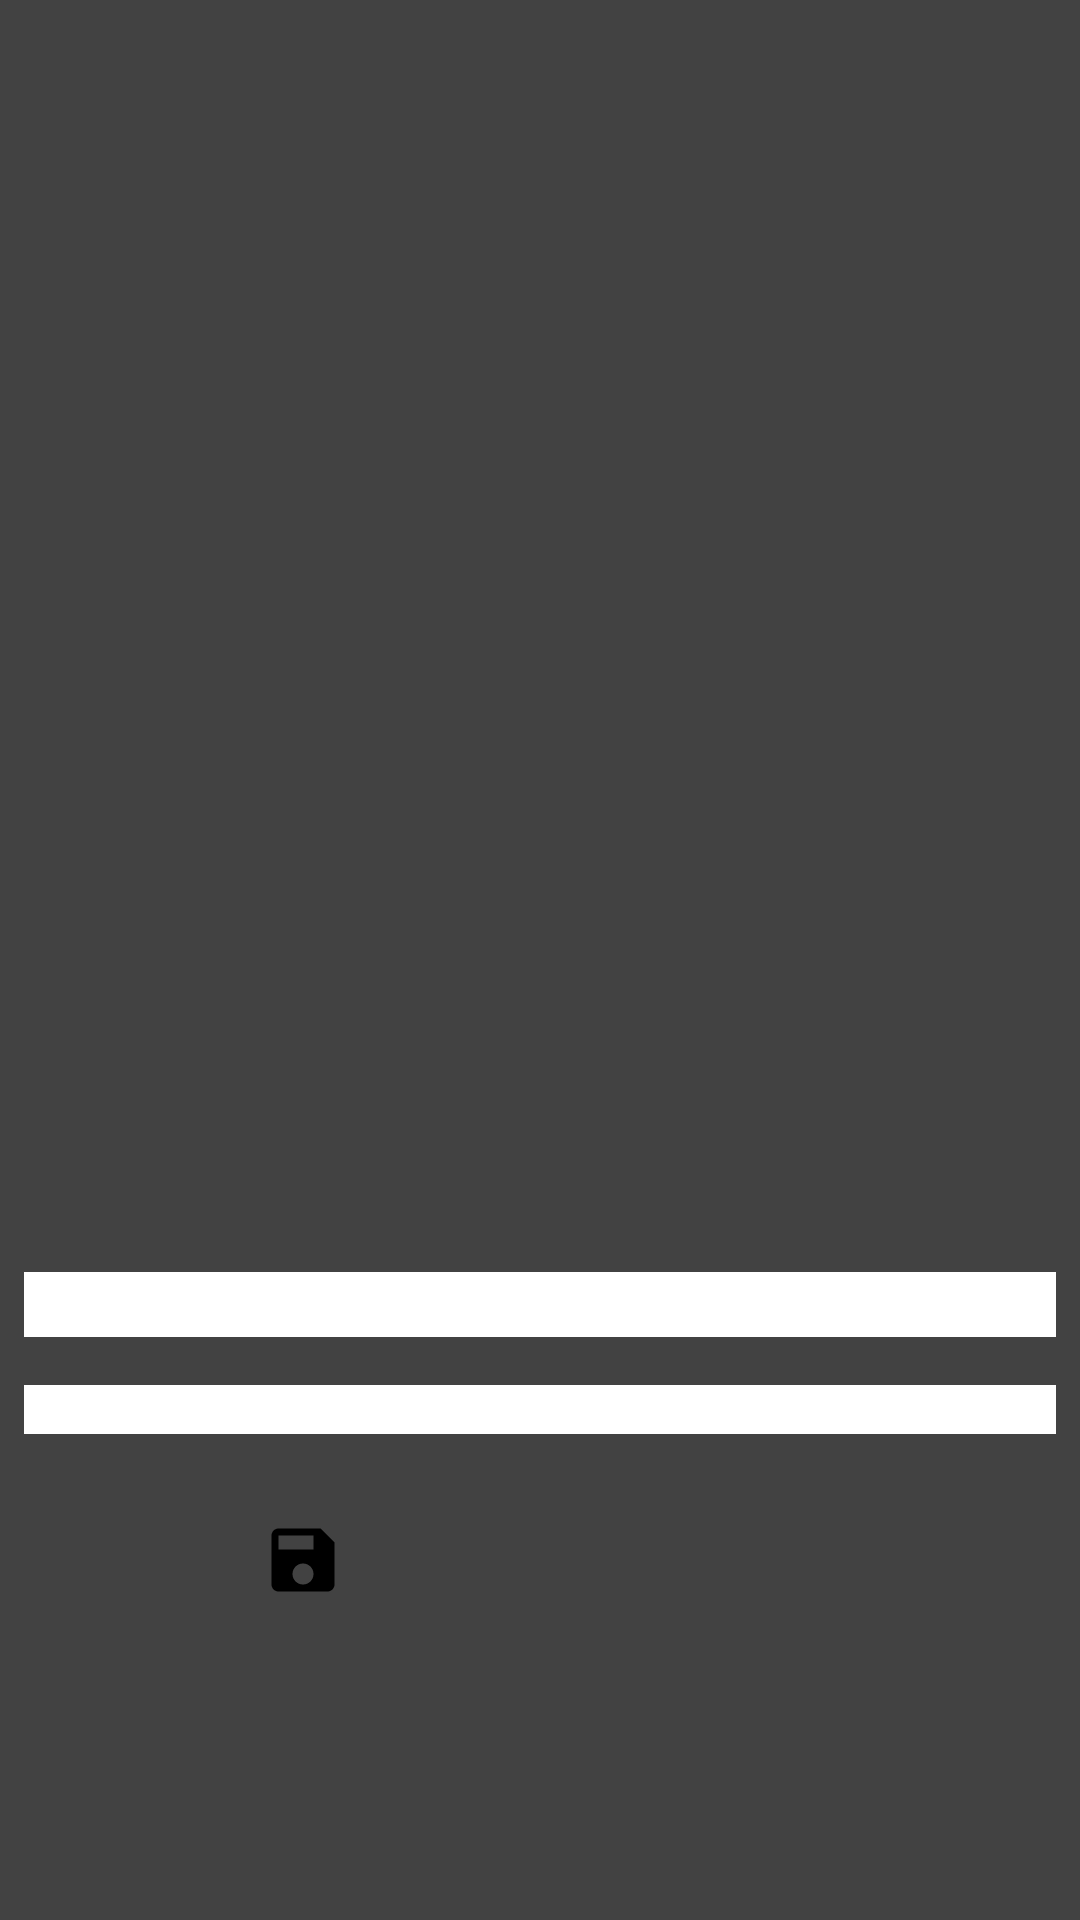

Icons on this 1080 x 1920 Android screen, each with its box as rect(x1, y1, x2, y2):
save: rect(271, 1528, 335, 1592)
